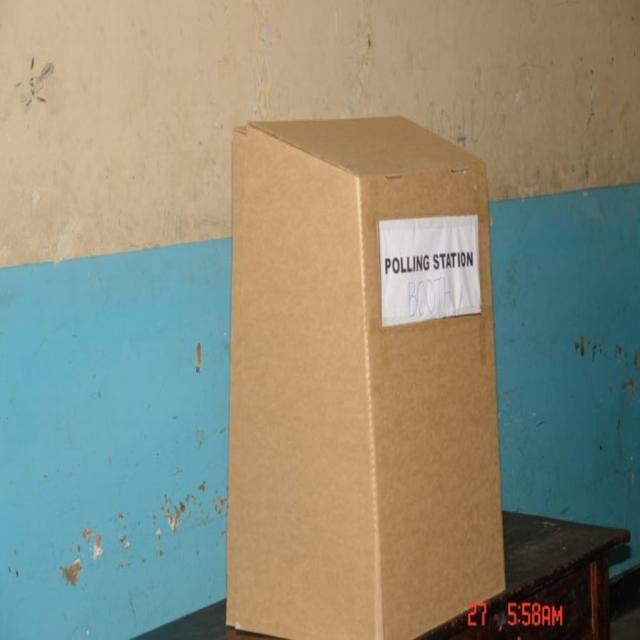Box: (225, 115, 506, 640)
